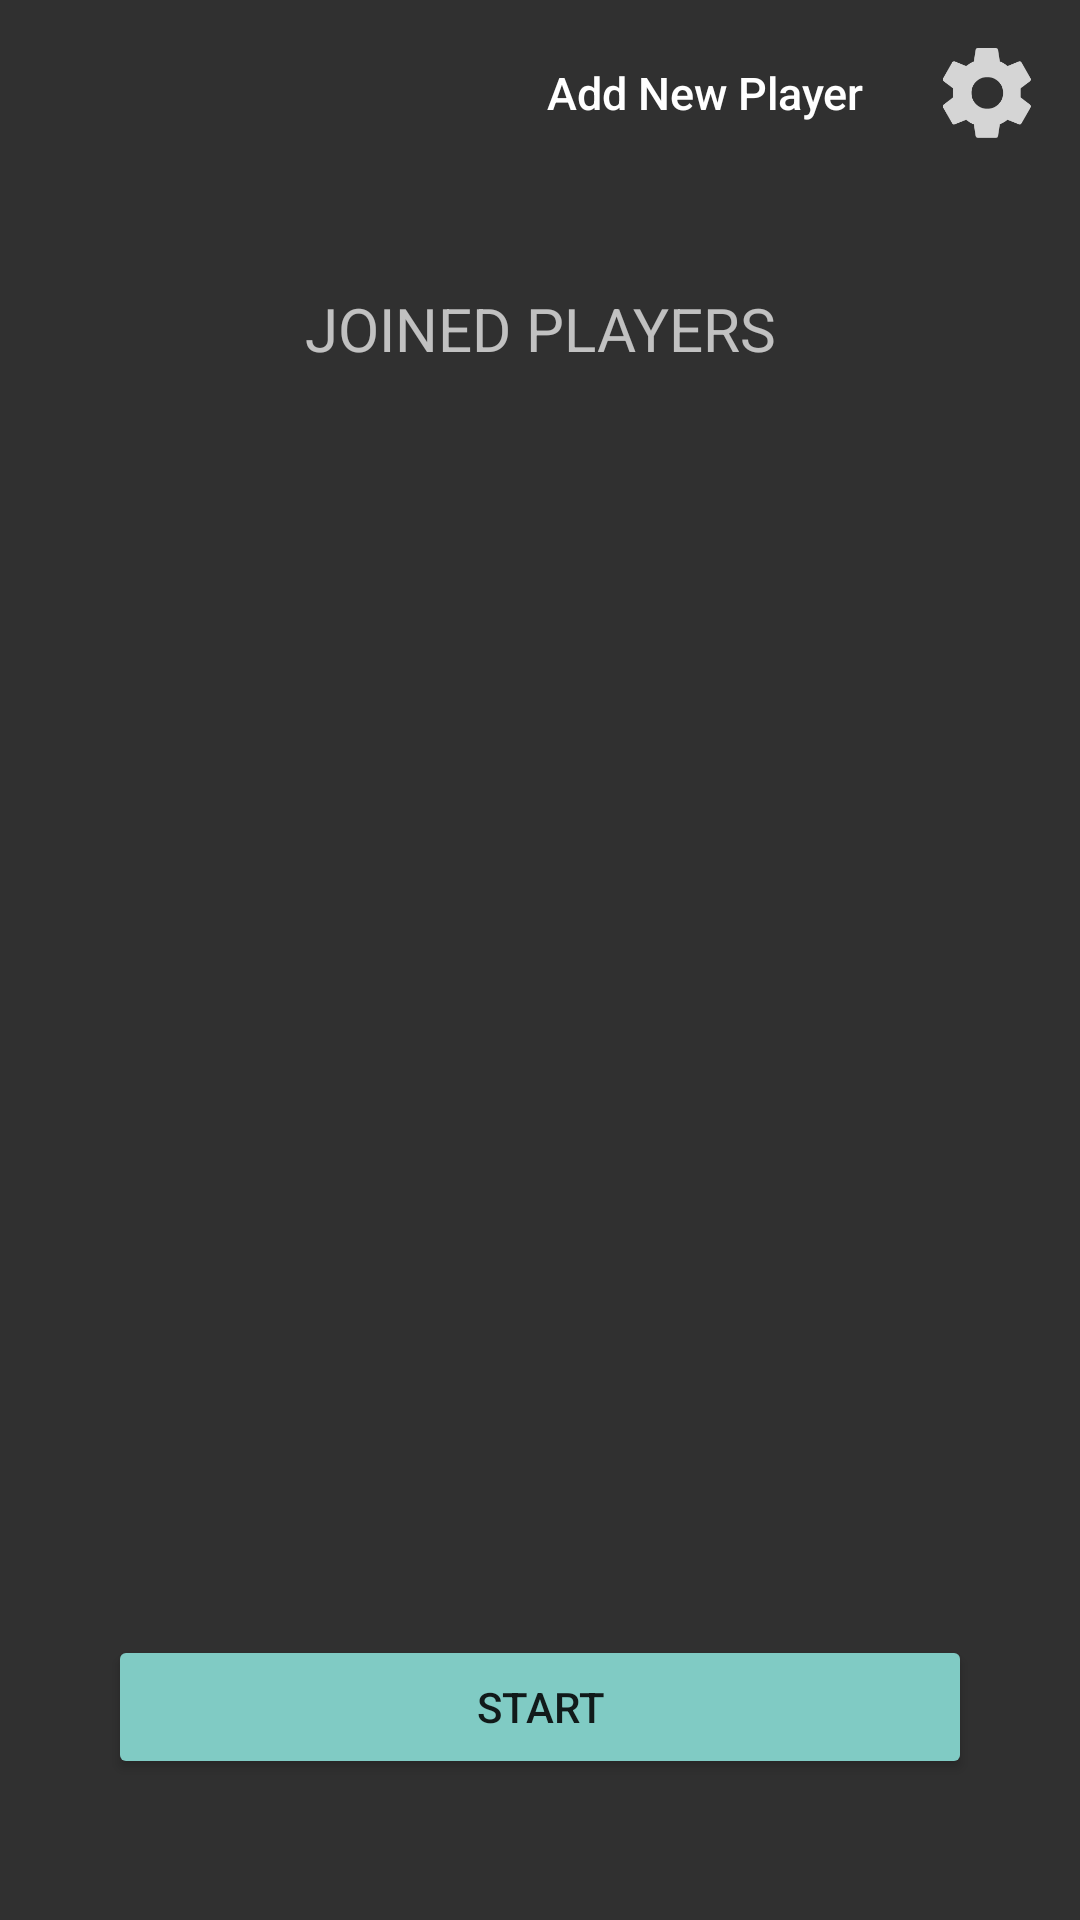

Point at icon controls on the screen. Image size 1080px x 1920px, points as point (x, y).
settings: point (987, 93)
